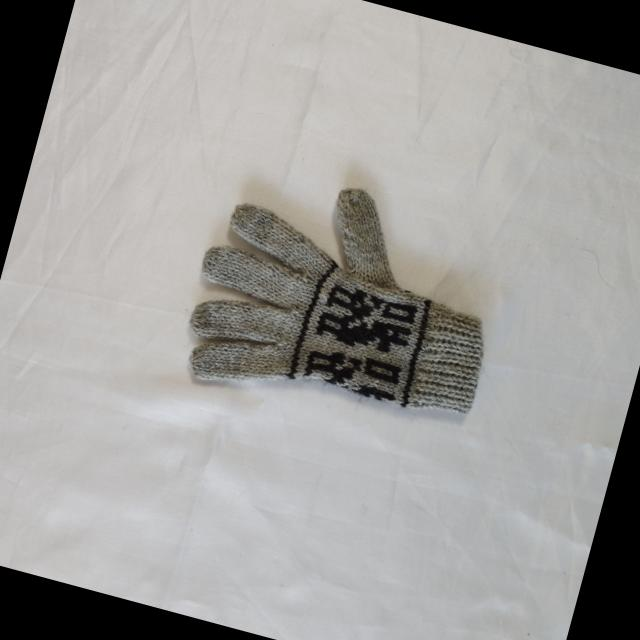Guante: (172, 154, 520, 451)
